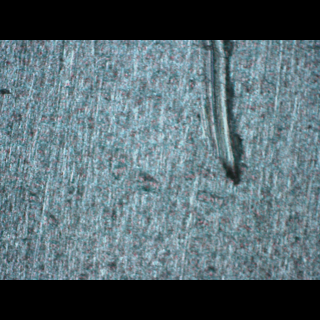d: (194, 40, 245, 186)
